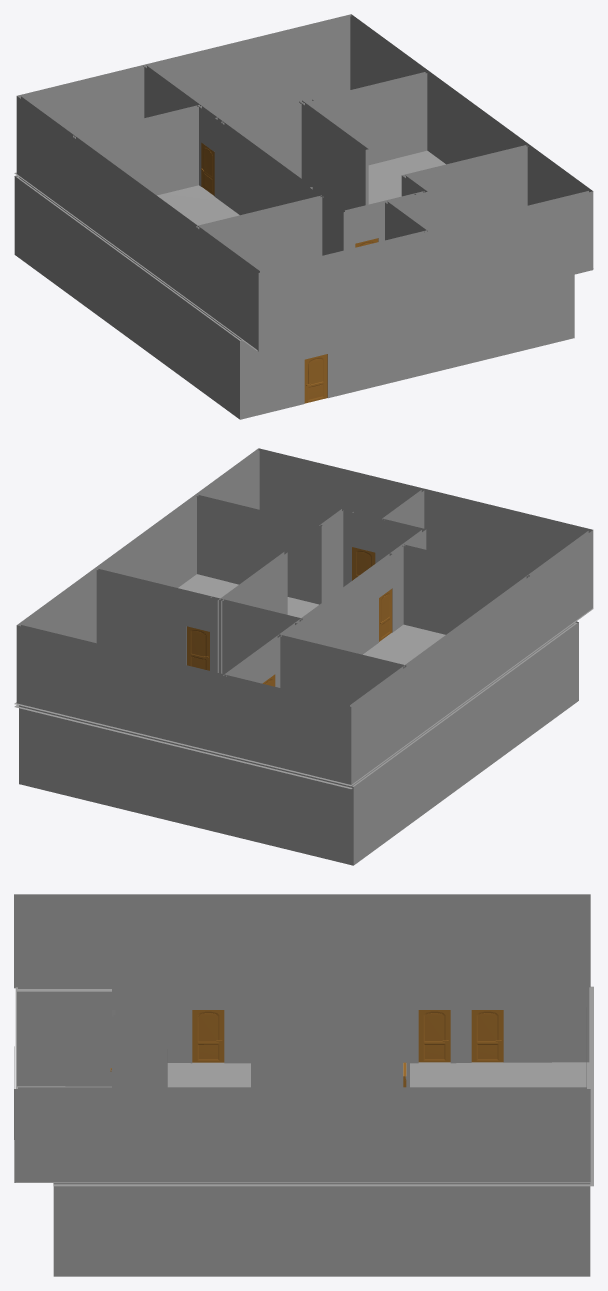
File: Casa 4.0.fbx
3 views of the same model, one above another, from view 1: azimuth 30°, elevation 25°; view 2: azimuth 150°, elevation 25°; view 3: azimuth 270°, elevation 25° (orthographic). The views are drawn at different scales.
Visible parts, largest first — view 1: polySurface34, polySurface53, polySurface4, polySurface27, polySurface38, polySurface36, polySurface32, polySurface42, polySurface40, polySurface63, polySurface17, polySurface65 (+1 smaller); view 2: polySurface34, polySurface53, polySurface4, polySurface36, polySurface27, polySurface32, polySurface40, polySurface38, polySurface63, polySurface42, polySurface25, polySurface65 (+3 smaller); view 3: polySurface34, polySurface53, polySurface27, polySurface42, polySurface40, polySurface65, polySurface25, polySurface29, polySurface59, polySurface8.
Part boxes in pixels (left/top/right/bottom): polySurface34: left=16, top=14, right=593, bottom=351; polySurface53: left=14, top=175, right=574, bottom=419; polySurface4: left=221, top=72, right=427, bottom=178; polySurface27: left=143, top=65, right=344, bottom=255; polySurface38: left=73, top=104, right=201, bottom=195; polySurface36: left=402, top=145, right=528, bottom=229; polySurface32: left=196, top=195, right=323, bottom=270; polySurface42: left=299, top=100, right=368, bottom=210; polySurface40: left=14, top=150, right=593, bottom=350; polySurface63: left=343, top=191, right=427, bottom=250; polySurface17: left=304, top=354, right=327, bottom=403; polySurface65: left=385, top=201, right=427, bottom=240; polySurface34: left=16, top=448, right=593, bottom=784; polySurface53: left=19, top=621, right=578, bottom=865; polySurface4: left=96, top=569, right=302, bottom=674; polySurface36: left=196, top=495, right=322, bottom=604; polySurface27: left=223, top=529, right=426, bottom=687; polySurface32: left=402, top=544, right=529, bottom=634; polySurface40: left=14, top=574, right=593, bottom=788; polySurface38: left=277, top=634, right=406, bottom=704; polySurface63: left=342, top=508, right=425, bottom=586; polySurface42: left=217, top=551, right=287, bottom=673; polySurface25: left=319, top=509, right=343, bottom=602; polySurface65: left=382, top=490, right=424, bottom=528; polySurface34: left=14, top=894, right=590, bottom=1182; polySurface53: left=53, top=1183, right=590, bottom=1276; polySurface27: left=112, top=967, right=589, bottom=1063; polySurface42: left=251, top=1014, right=409, bottom=1087; polySurface40: left=15, top=986, right=593, bottom=1186; polySurface65: left=17, top=991, right=112, bottom=1086; polySurface25: left=112, top=1015, right=167, bottom=1087; polySurface29: left=192, top=1010, right=224, bottom=1062; polySurface59: left=418, top=1010, right=450, bottom=1062; polySurface8: left=471, top=1010, right=503, bottom=1062.
Size of the model in its own units: 17.96 by 8.06 by 22.4.
